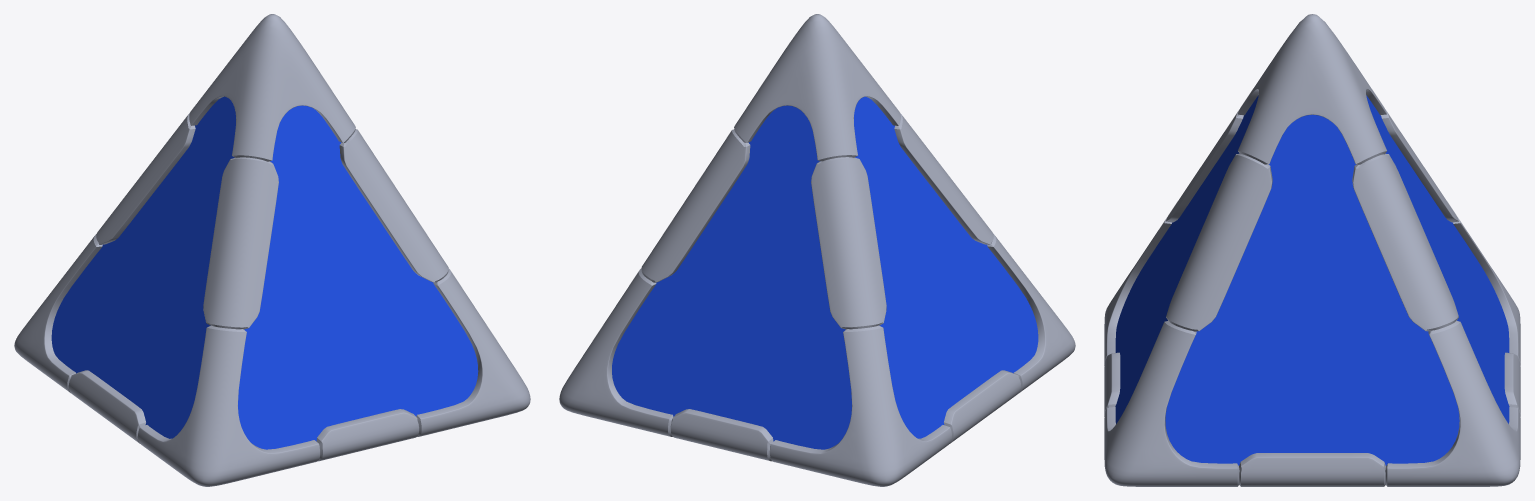
The model's file is Detail_Pyramid.fbx.
3 renders of one model, left to right at view 1: azimuth 30°, elevation 25°; view 2: azimuth 150°, elevation 25°; view 3: azimuth 270°, elevation 25°, orthographic. The views are drawn at different scales.
Visible parts, largest first — view 1: Detail_Pyramid; view 2: Detail_Pyramid; view 3: Detail_Pyramid.
Boxes of the visible parts, box(x1,y1,x2,y2) form: Detail_Pyramid: box(14, 14, 530, 486); Detail_Pyramid: box(559, 14, 1075, 486); Detail_Pyramid: box(1104, 14, 1520, 486).
Bounding box in the file's own units: 149 × 154 × 149.
Materials: 1 (1 with a texture image).
